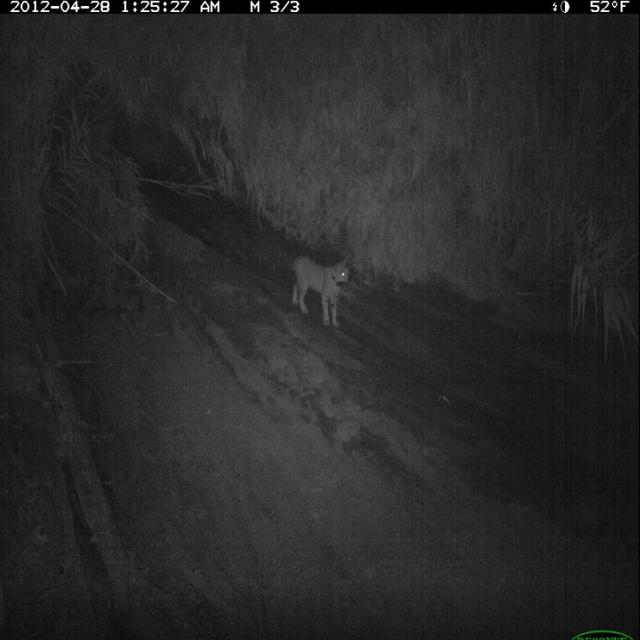bobcat: (290, 249, 359, 336)
